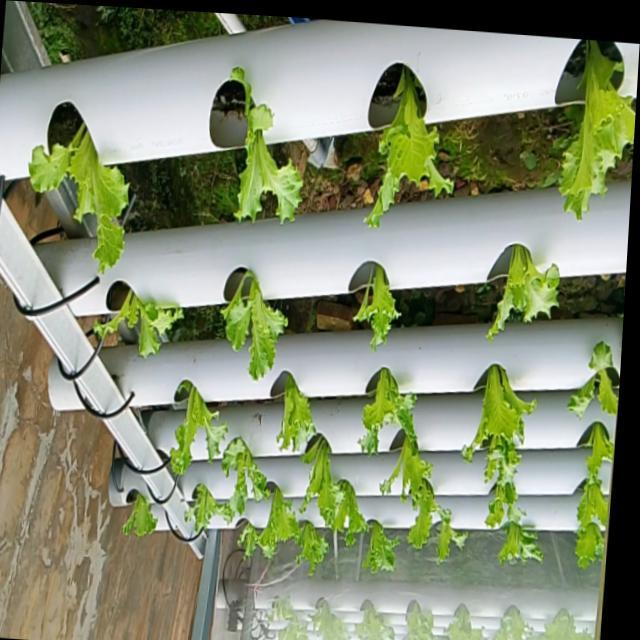Baby: (21, 127, 123, 277), (555, 39, 636, 221), (362, 69, 450, 231), (225, 71, 298, 225), (217, 275, 283, 386), (484, 246, 555, 342), (376, 431, 446, 528), (84, 297, 177, 365), (164, 385, 223, 480), (295, 435, 352, 532), (467, 365, 527, 449), (353, 496, 412, 581), (234, 488, 295, 562), (217, 439, 266, 523), (564, 342, 615, 419), (351, 268, 396, 353), (478, 420, 520, 510), (357, 370, 400, 455), (272, 375, 312, 455), (572, 477, 604, 559), (180, 486, 228, 540), (424, 506, 466, 564), (291, 521, 325, 577), (495, 521, 539, 564), (117, 500, 153, 543)
